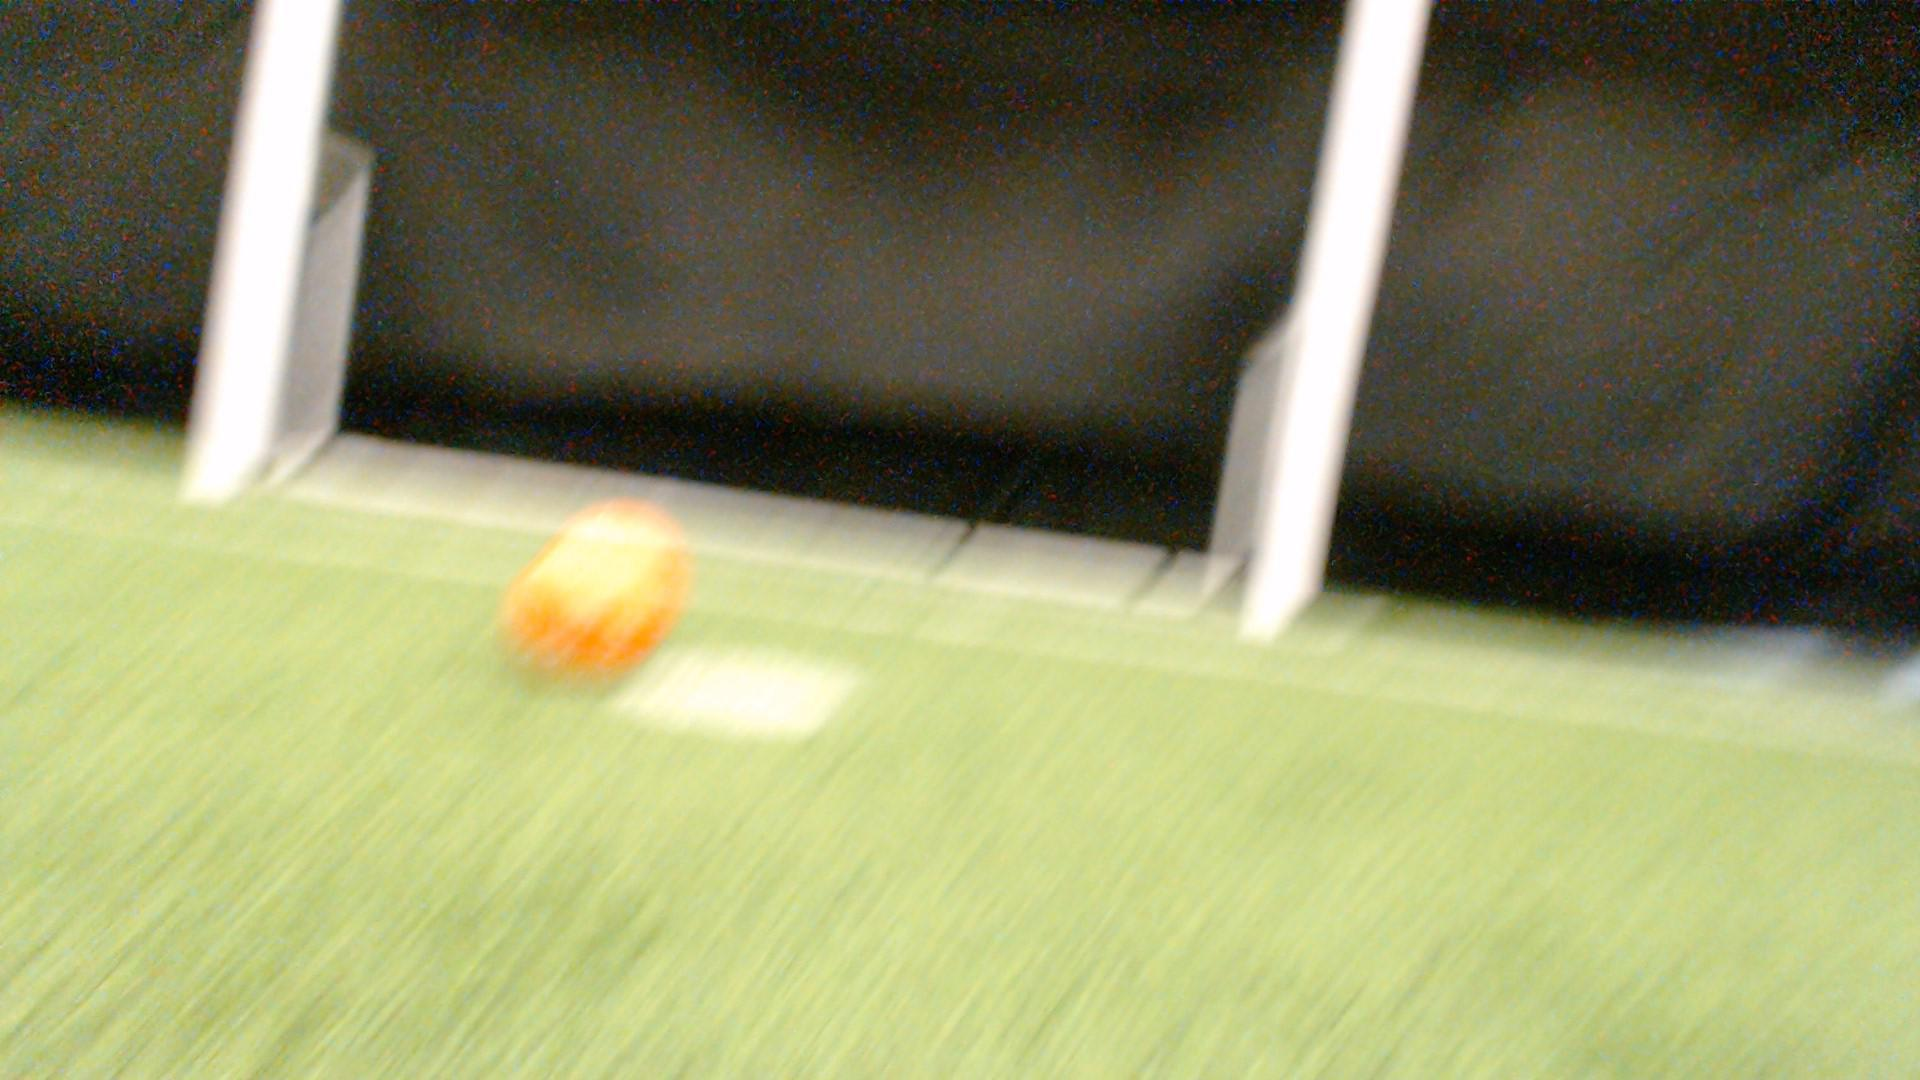bola: (508, 498, 705, 679)
